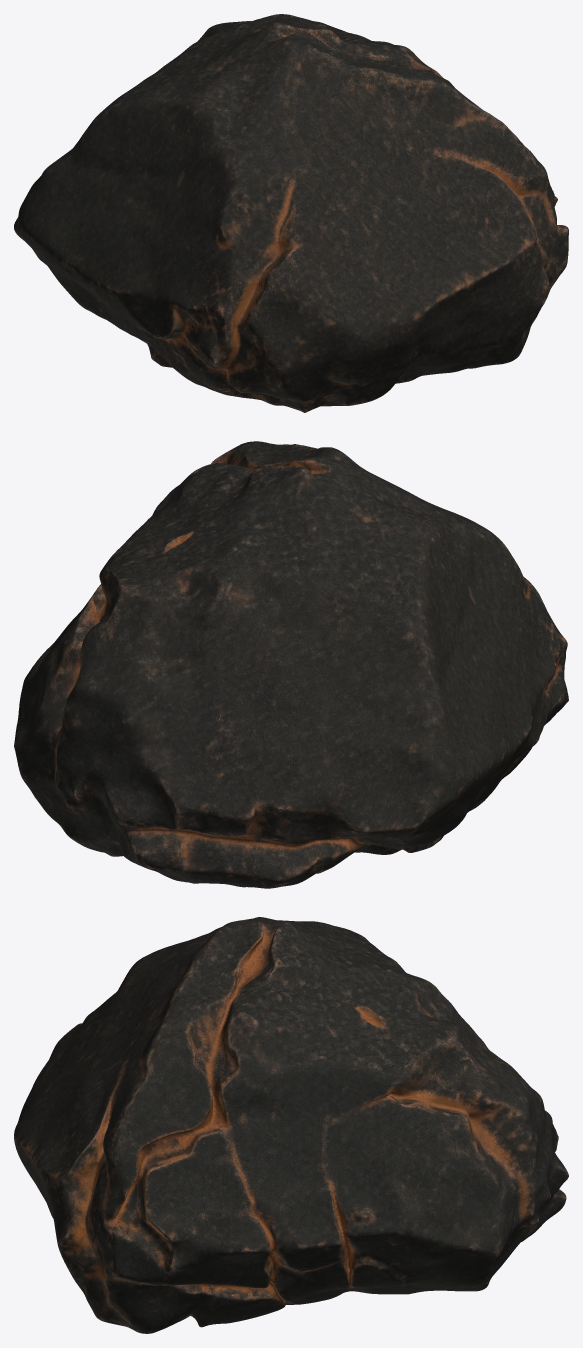
The model's file is Boulder.glb.
3 renders of one model, top to bottom at view 1: azimuth 30°, elevation 25°; view 2: azimuth 150°, elevation 25°; view 3: azimuth 270°, elevation 25°, orthographic. The views are drawn at different scales.
Size of the model in its own units: 1.77 by 1.25 by 1.9.
1 material, 1 textured.
